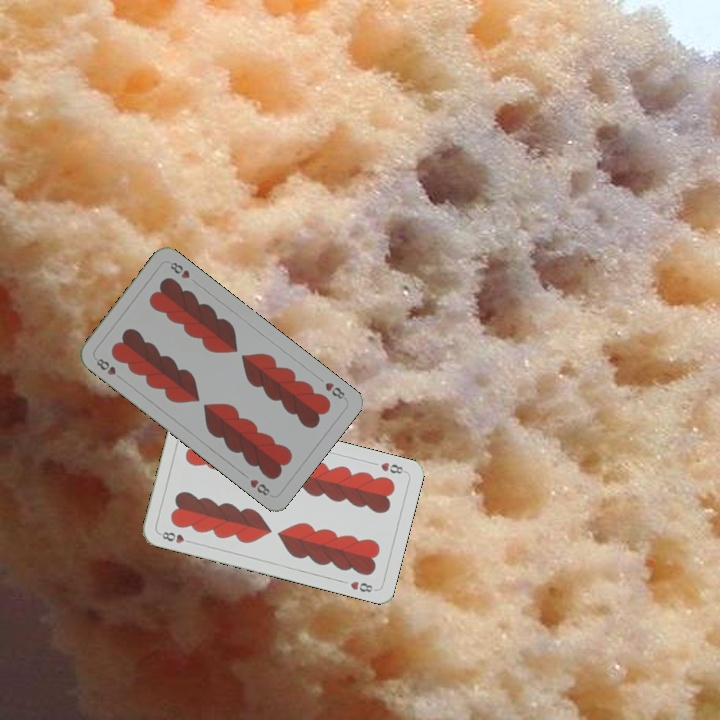H8: (156, 528, 196, 546), (91, 354, 119, 378), (321, 378, 349, 402), (377, 458, 408, 477)
